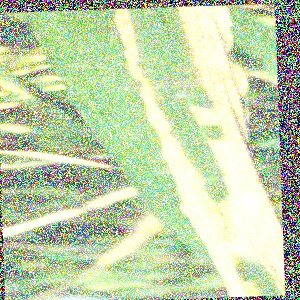Leaf_Blast: (114, 8, 252, 254)
